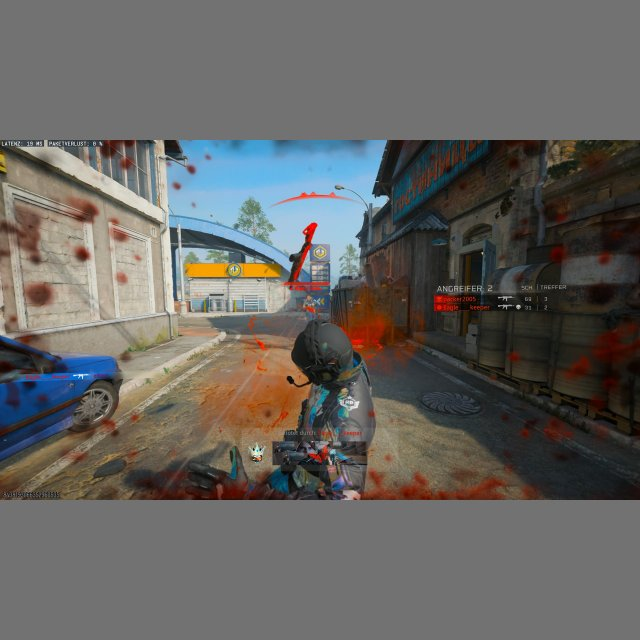head: (291, 321, 354, 385)
player: (283, 318, 375, 499), (302, 294, 316, 320)
